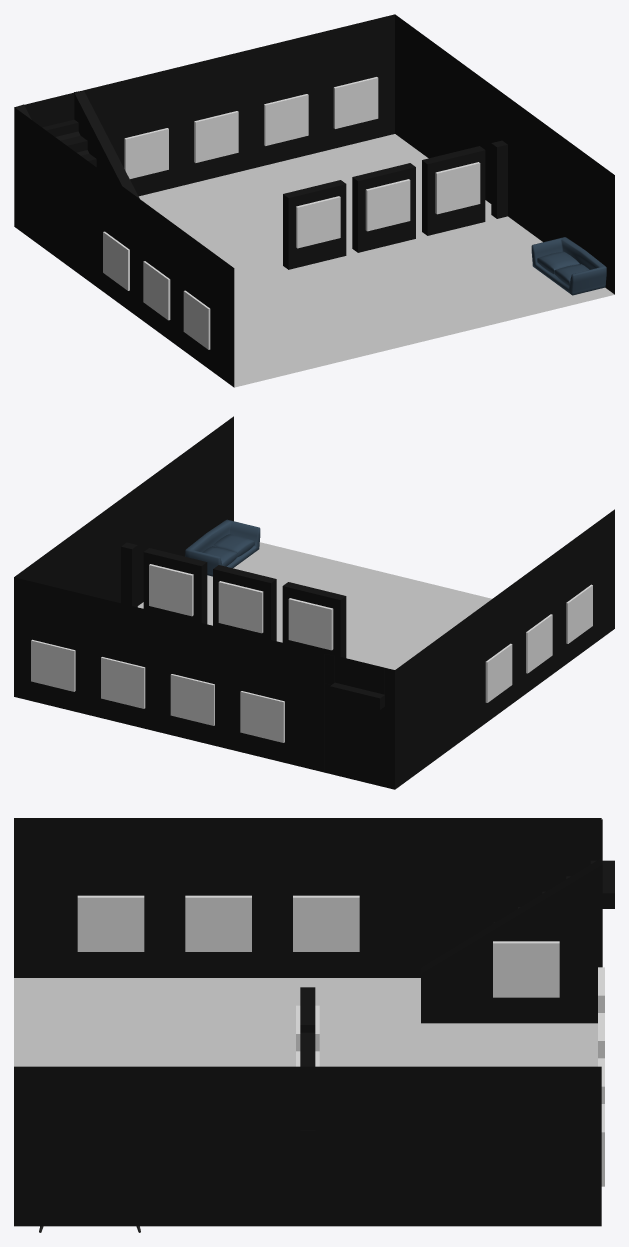
Rendered from aiGalleryBaked.gltf.
3 views of the same model, one above another, from view 1: azimuth 30°, elevation 25°; view 2: azimuth 150°, elevation 25°; view 3: azimuth 270°, elevation 25° (orthographic). The views are drawn at different scales.
Visible parts, largest first — view 1: Cube, Cube.007, Cube.009, Cube.008, Couch_Medium1, Cube.005, Cube.012, Cube.011, Cube.019, Cube.002, Cube.017, Cube.018 (+6 smaller); view 2: Cube, Couch_Medium1, Cube.009, Cube.007, Cube.008, Cube.015, Cube.014, Cube.016, Cube.001, Cube.019, Cube.017, Cube.018 (+5 smaller); view 3: Cube, Cube.005, Cube.020, Cube.006, Cube.021, Cube.022, Cube.007, Cube.013, Cube.008.
Boxes of the visible parts, bbox=[...] form: Cube: bbox=[14, 14, 614, 387]; Cube.007: bbox=[283, 180, 346, 269]; Cube.009: bbox=[422, 146, 485, 235]; Cube.008: bbox=[352, 163, 415, 252]; Couch_Medium1: bbox=[531, 237, 606, 295]; Cube.005: bbox=[16, 91, 139, 198]; Cube.012: bbox=[435, 162, 480, 214]; Cube.011: bbox=[365, 179, 410, 231]; Cube.019: bbox=[333, 77, 378, 128]; Cube.002: bbox=[296, 196, 340, 248]; Cube.017: bbox=[194, 111, 238, 162]; Cube.018: bbox=[264, 94, 308, 145]; Cube: bbox=[14, 416, 614, 789]; Couch_Medium1: bbox=[185, 519, 260, 576]; Cube.009: bbox=[143, 548, 207, 624]; Cube.007: bbox=[282, 582, 346, 657]; Cube.008: bbox=[213, 565, 276, 641]; Cube.015: bbox=[218, 581, 263, 633]; Cube.014: bbox=[288, 598, 333, 650]; Cube.016: bbox=[149, 564, 193, 616]; Cube.001: bbox=[240, 691, 284, 742]; Cube.019: bbox=[31, 639, 75, 691]; Cube.017: bbox=[170, 674, 214, 725]; Cube.018: bbox=[101, 657, 145, 708]; Cube: bbox=[14, 818, 601, 1226]; Cube.005: bbox=[421, 819, 602, 1023]; Cube.020: bbox=[77, 895, 144, 951]; Cube.006: bbox=[493, 941, 559, 997]; Cube.021: bbox=[185, 895, 251, 951]; Cube.022: bbox=[293, 895, 359, 951]; Cube.007: bbox=[300, 987, 315, 1032]; Cube.013: bbox=[493, 860, 614, 922]; Cube.008: bbox=[300, 1032, 315, 1066].
Bounding box in the file's own units: 10.06 × 3.18 × 10.22.
